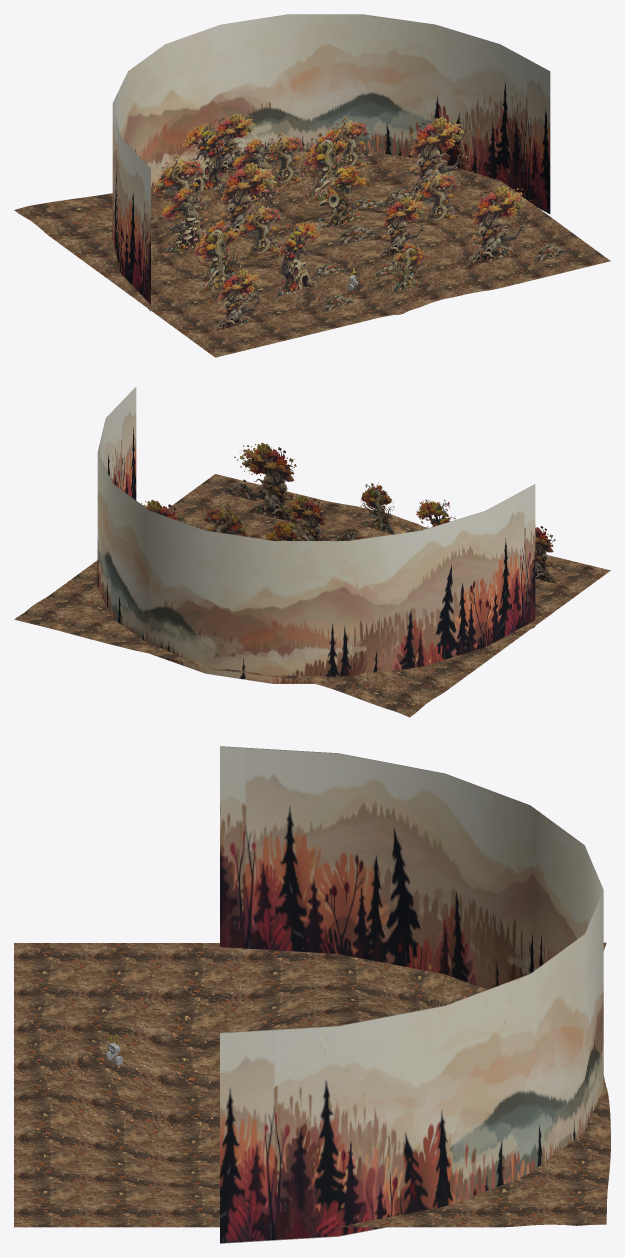
File: mushroom scene.fbx
3 renders of one model, top to bottom at view 1: azimuth 30°, elevation 25°; view 2: azimuth 150°, elevation 25°; view 3: azimuth 270°, elevation 25°, orthographic. The views are drawn at different scales.
Visible parts, largest first — view 1: pPlane11, pPlane2, pPlane16, pPlane30, pPlane9, pPlane17, pPlane14, pPlane26, pPlane10, pPlane4, pPlane24, pPlane18 (+10 smaller); view 2: pPlane11, pPlane2, pPlane16, pPlane3, pPlane19, pPlane15, pPlane18, pPlane14, pPlane10; view 3: pPlane11, pPlane2.
Part boxes in pixels (x1,y1,x2,y2): pPlane11: [112, 14, 550, 311]; pPlane2: [14, 149, 610, 357]; pPlane16: [466, 185, 531, 266]; pPlane30: [407, 117, 469, 193]; pPlane9: [217, 162, 280, 234]; pPlane17: [192, 218, 241, 293]; pPlane14: [273, 220, 319, 298]; pPlane26: [158, 186, 210, 255]; pPlane10: [314, 164, 368, 231]; pPlane4: [302, 127, 354, 204]; pPlane24: [182, 118, 227, 192]; pPlane18: [214, 269, 265, 330]; pPlane11: [97, 386, 535, 683]; pPlane2: [14, 474, 610, 717]; pPlane16: [234, 442, 299, 523]; pPlane3: [278, 495, 328, 540]; pPlane19: [360, 483, 394, 534]; pPlane15: [202, 503, 248, 536]; pPlane18: [535, 526, 557, 583]; pPlane14: [416, 499, 455, 529]; pPlane10: [265, 519, 311, 540]; pPlane11: [220, 746, 603, 1243]; pPlane2: [14, 942, 610, 1227].
Bounding box in the file's own units: 107 × 36.85 × 92.79.
